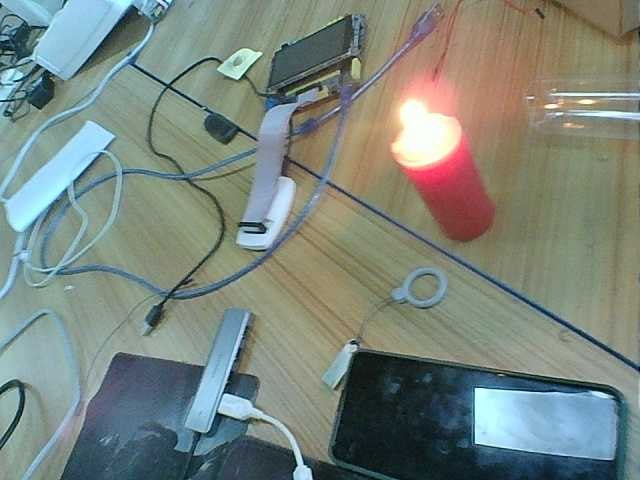candle: (411, 154, 496, 240)
fire: (391, 95, 450, 156)
